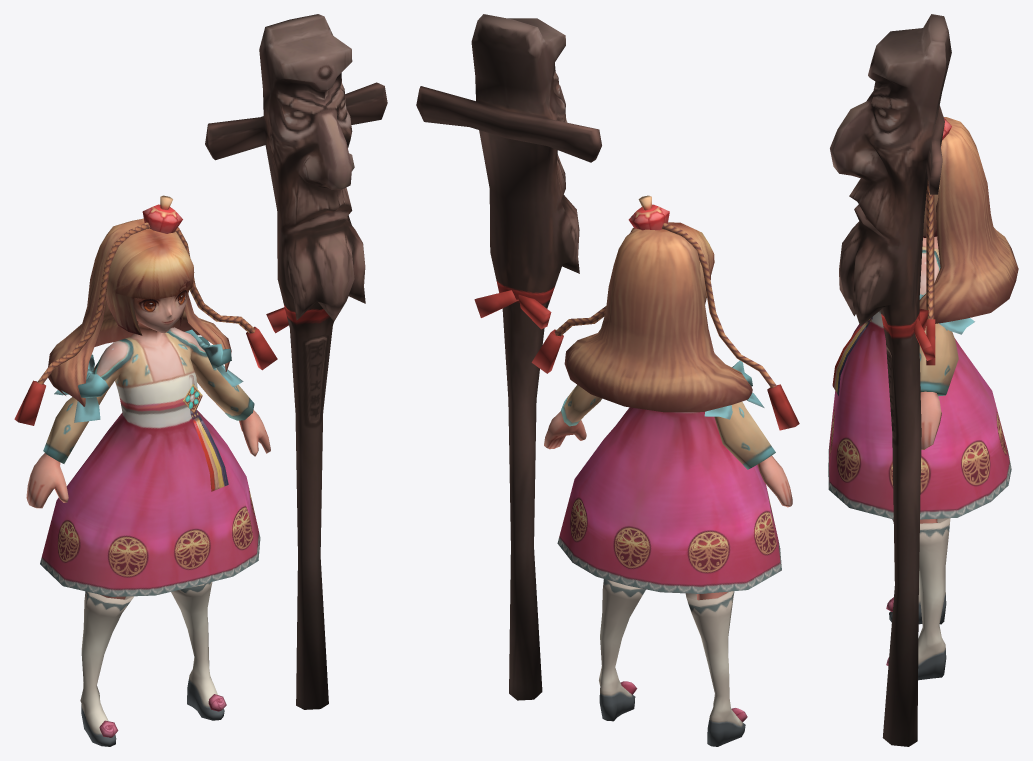
The picture shows the model from 3 angles, left to right: view 1: azimuth 30°, elevation 25°; view 2: azimuth 150°, elevation 25°; view 3: azimuth 270°, elevation 25°; orthographic projection. The views are drawn at different scales.
Visible parts, largest first — view 1: Object039; view 2: Object039; view 3: Object039.
Boxes of the visible parts, x1,y1,x2,y2 form: Object039: [14, 14, 387, 746]; Object039: [416, 14, 799, 746]; Object039: [828, 14, 1018, 746].
Bounding box in the file's own units: 1.04 × 1.8 × 0.4349.
1 material, 1 textured.
